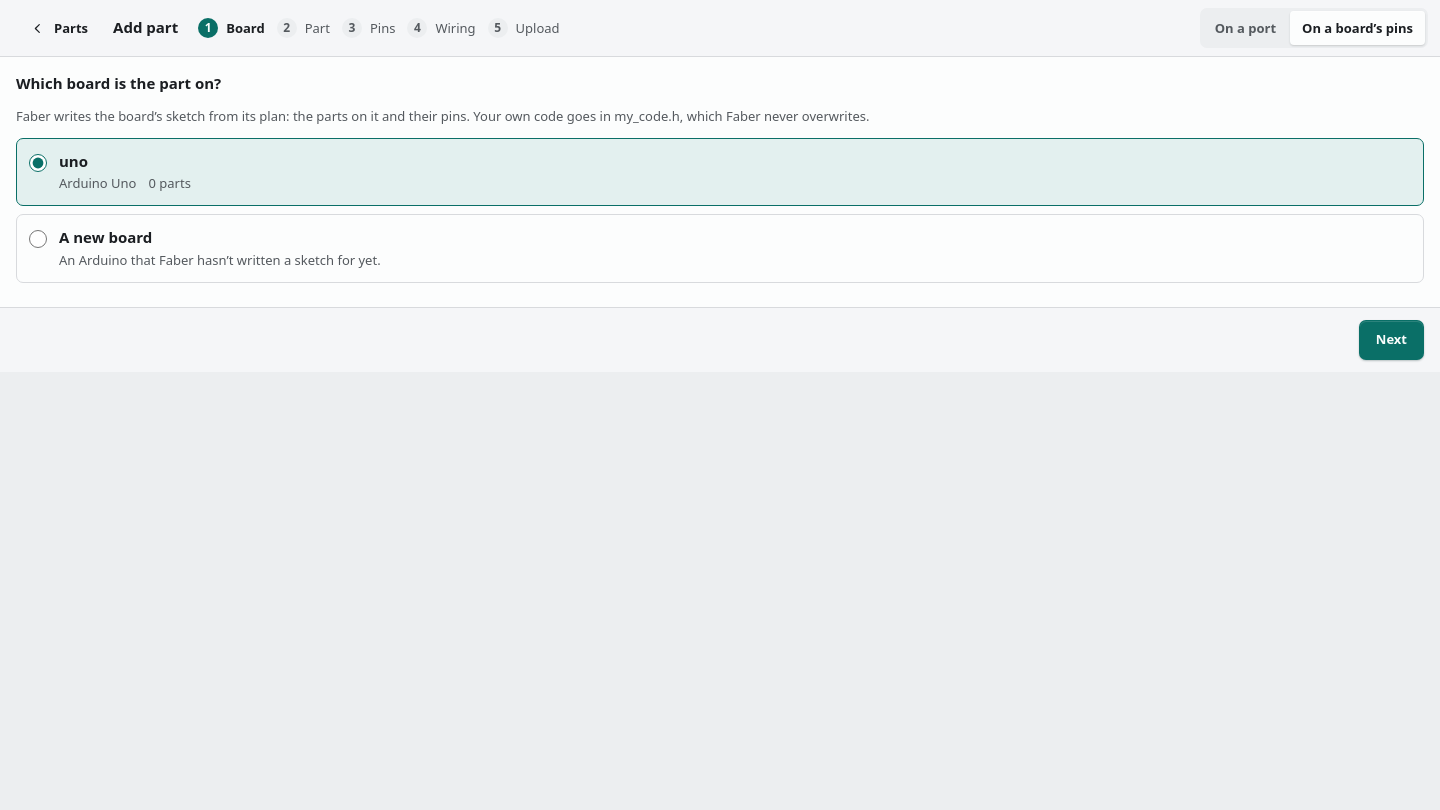
Test: Add part → On a board’s pins › starts a new board: its type and a name checked against the sketches there are
This screenshot has width=1440, height=810.
Click the radio button labelled "A new board". click: (38, 239)
box: [29,230,47,248]
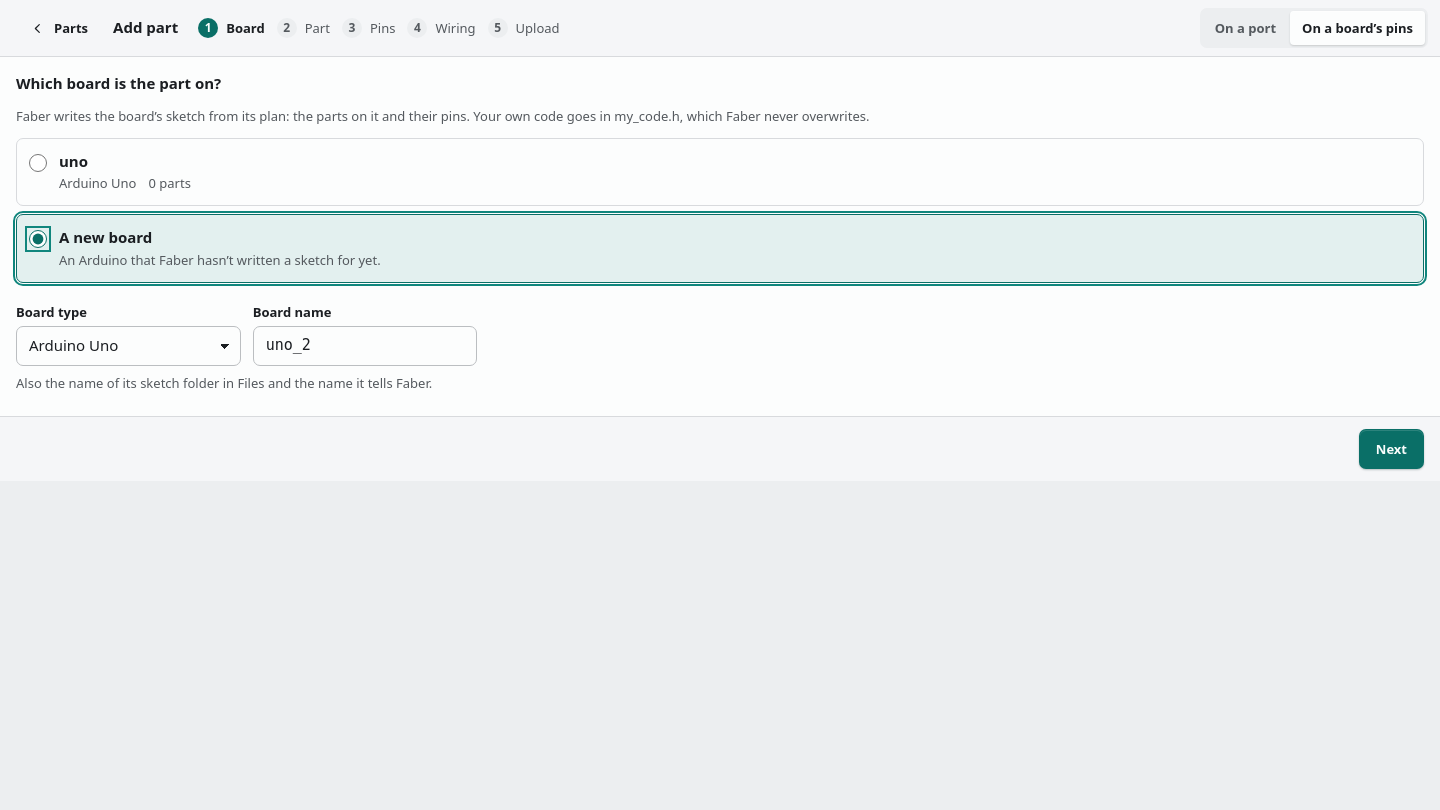
Select "Arduino Mega 2560" in the dropdown labelled "Board type". click: (128, 346)
box: [16,326,241,366]
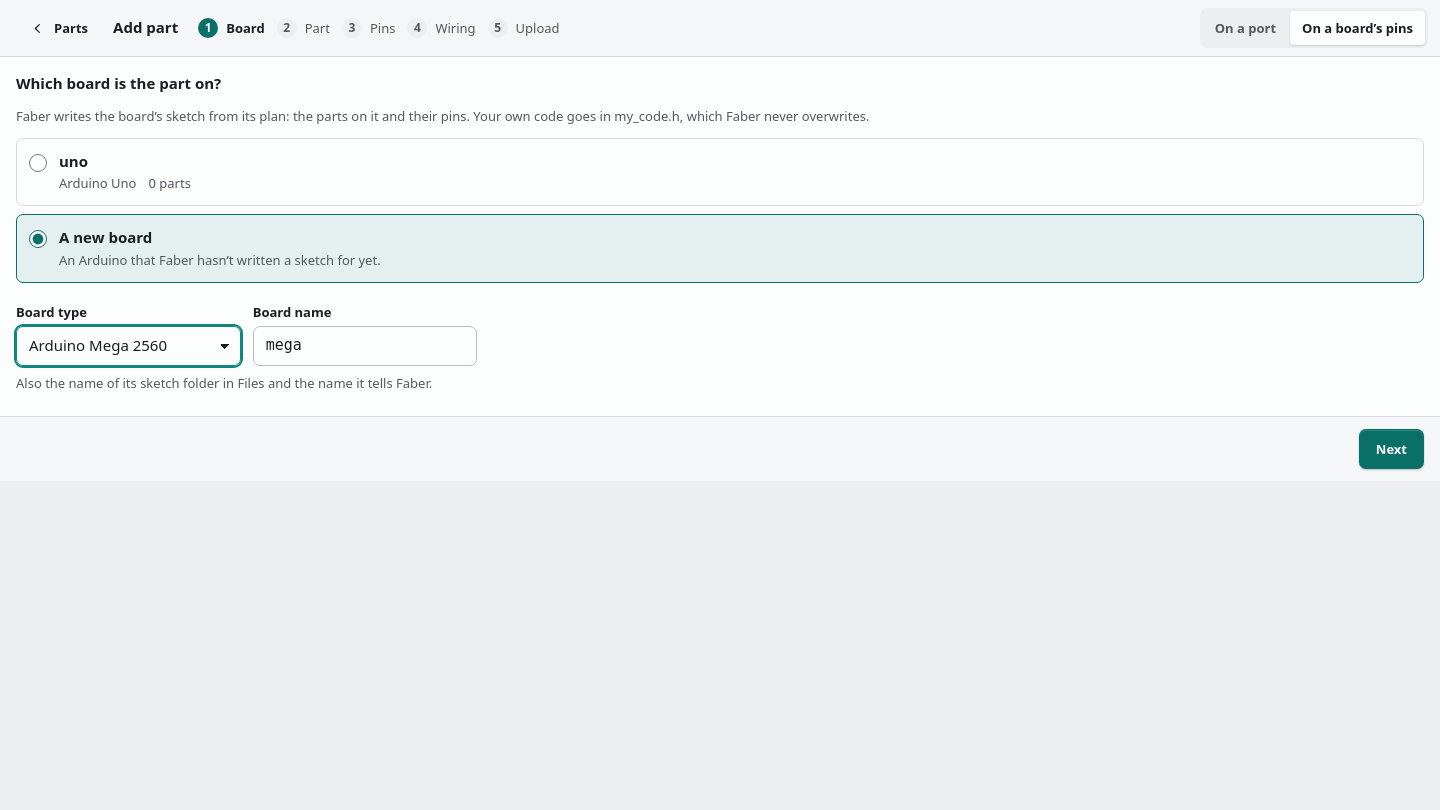
Now the field labelled "Board name" holds "mega"
Replace the text in the field labelled "Board name" with "uno". click: (365, 346)
box: [253,326,477,366]
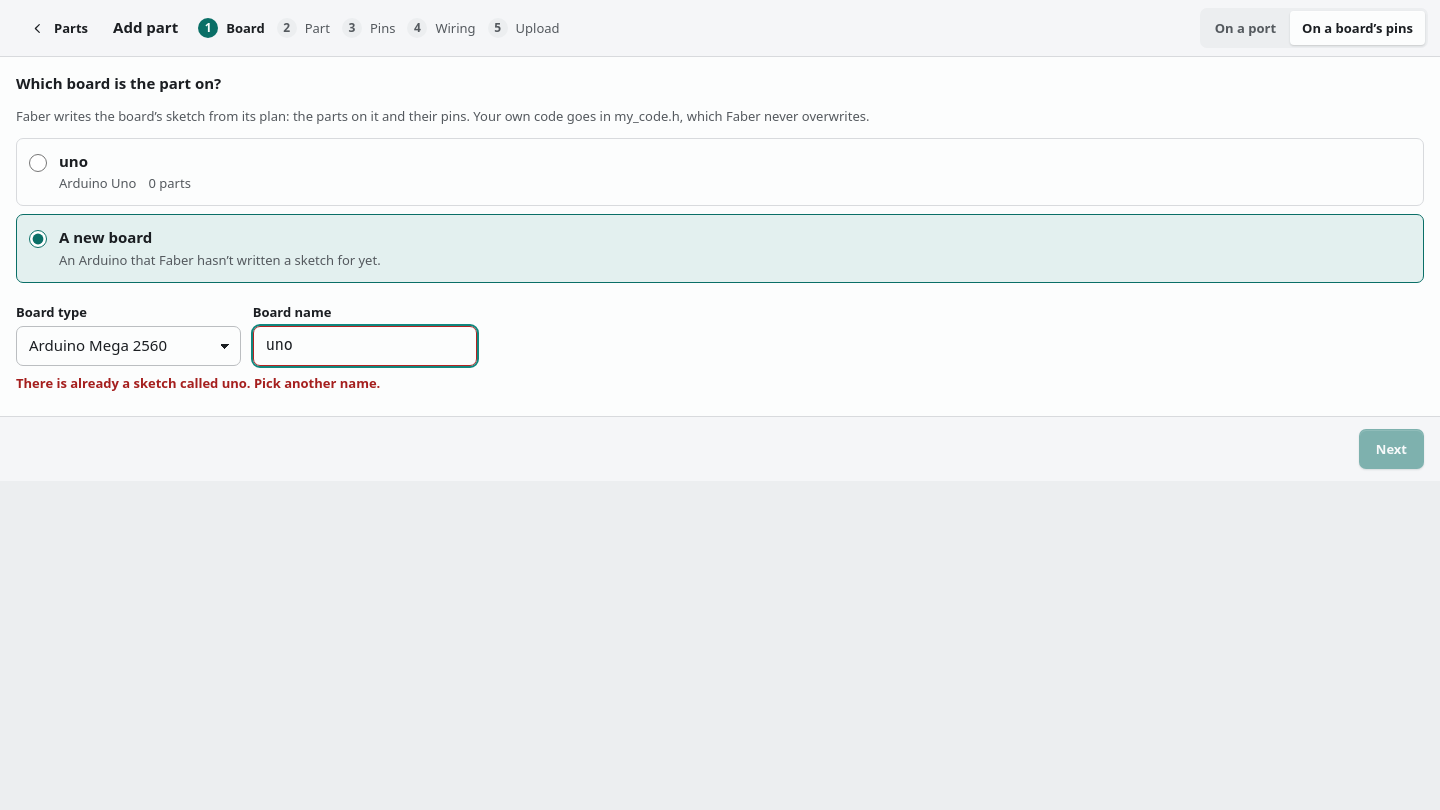
Now the button "Next" is disabled, box [1359,430,1424,470]
Now the text "There is already a sketch called uno. Pick another name." is shown, box [16,374,380,392]
Replace the text in the field labelled "Board name" with "mega". click: (365, 346)
box: [253,326,477,366]
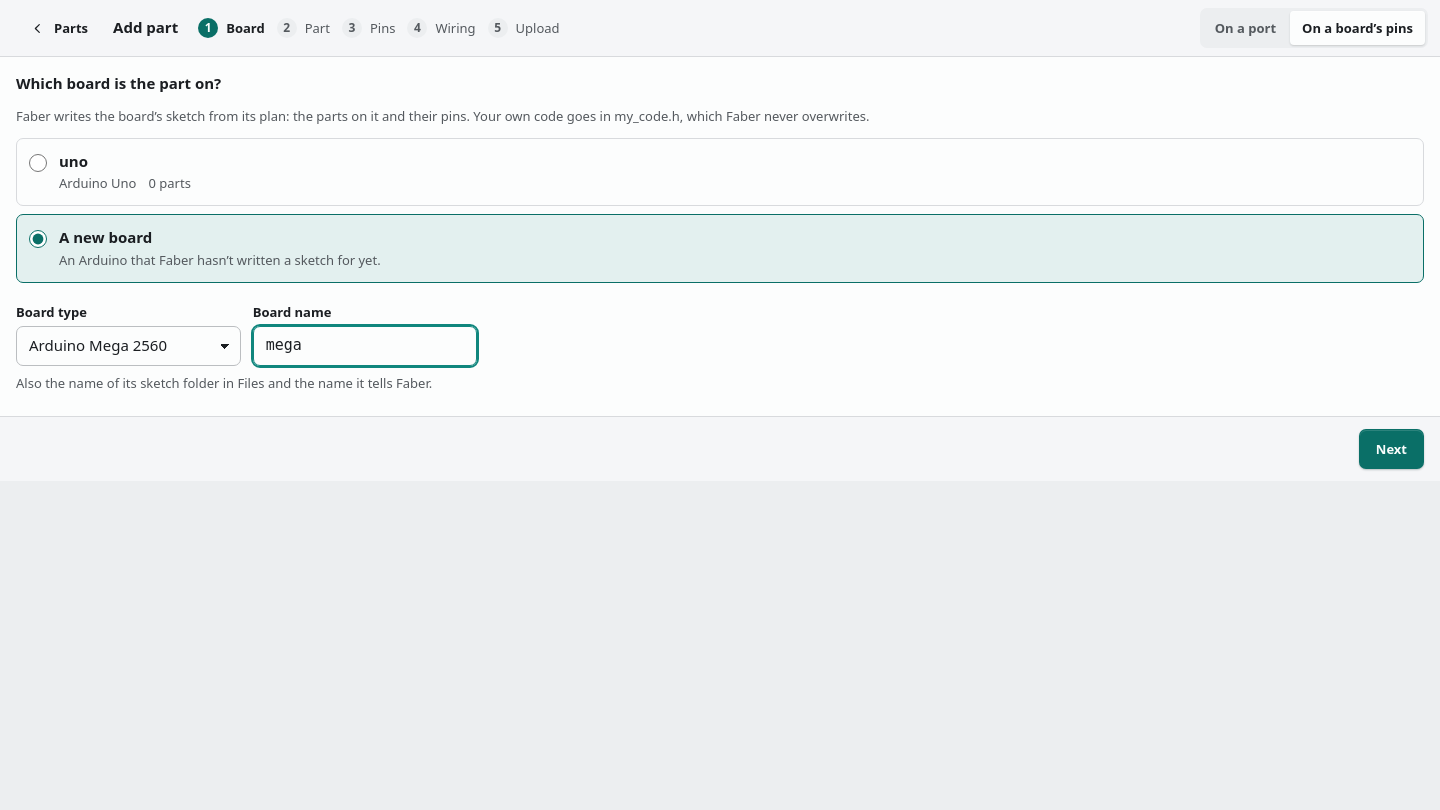
Click the button "Next". click: (1391, 450)
box: [1359,430,1424,470]
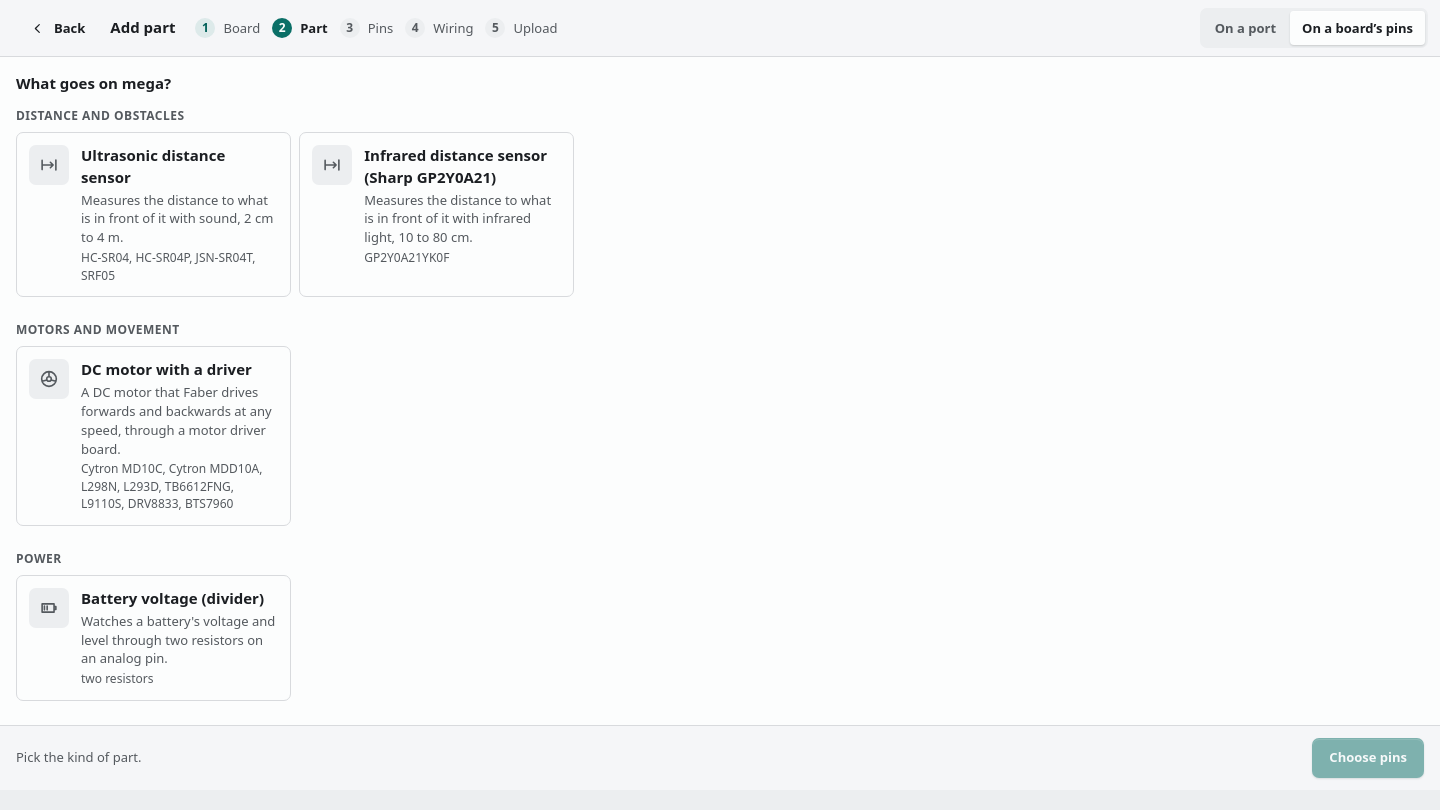
Now the text "What goes on mega?" is shown, box [16,73,171,95]
